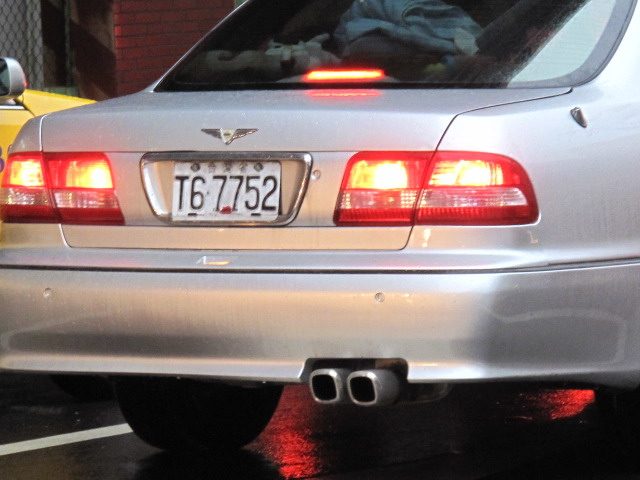plate: (170, 159, 284, 223)
